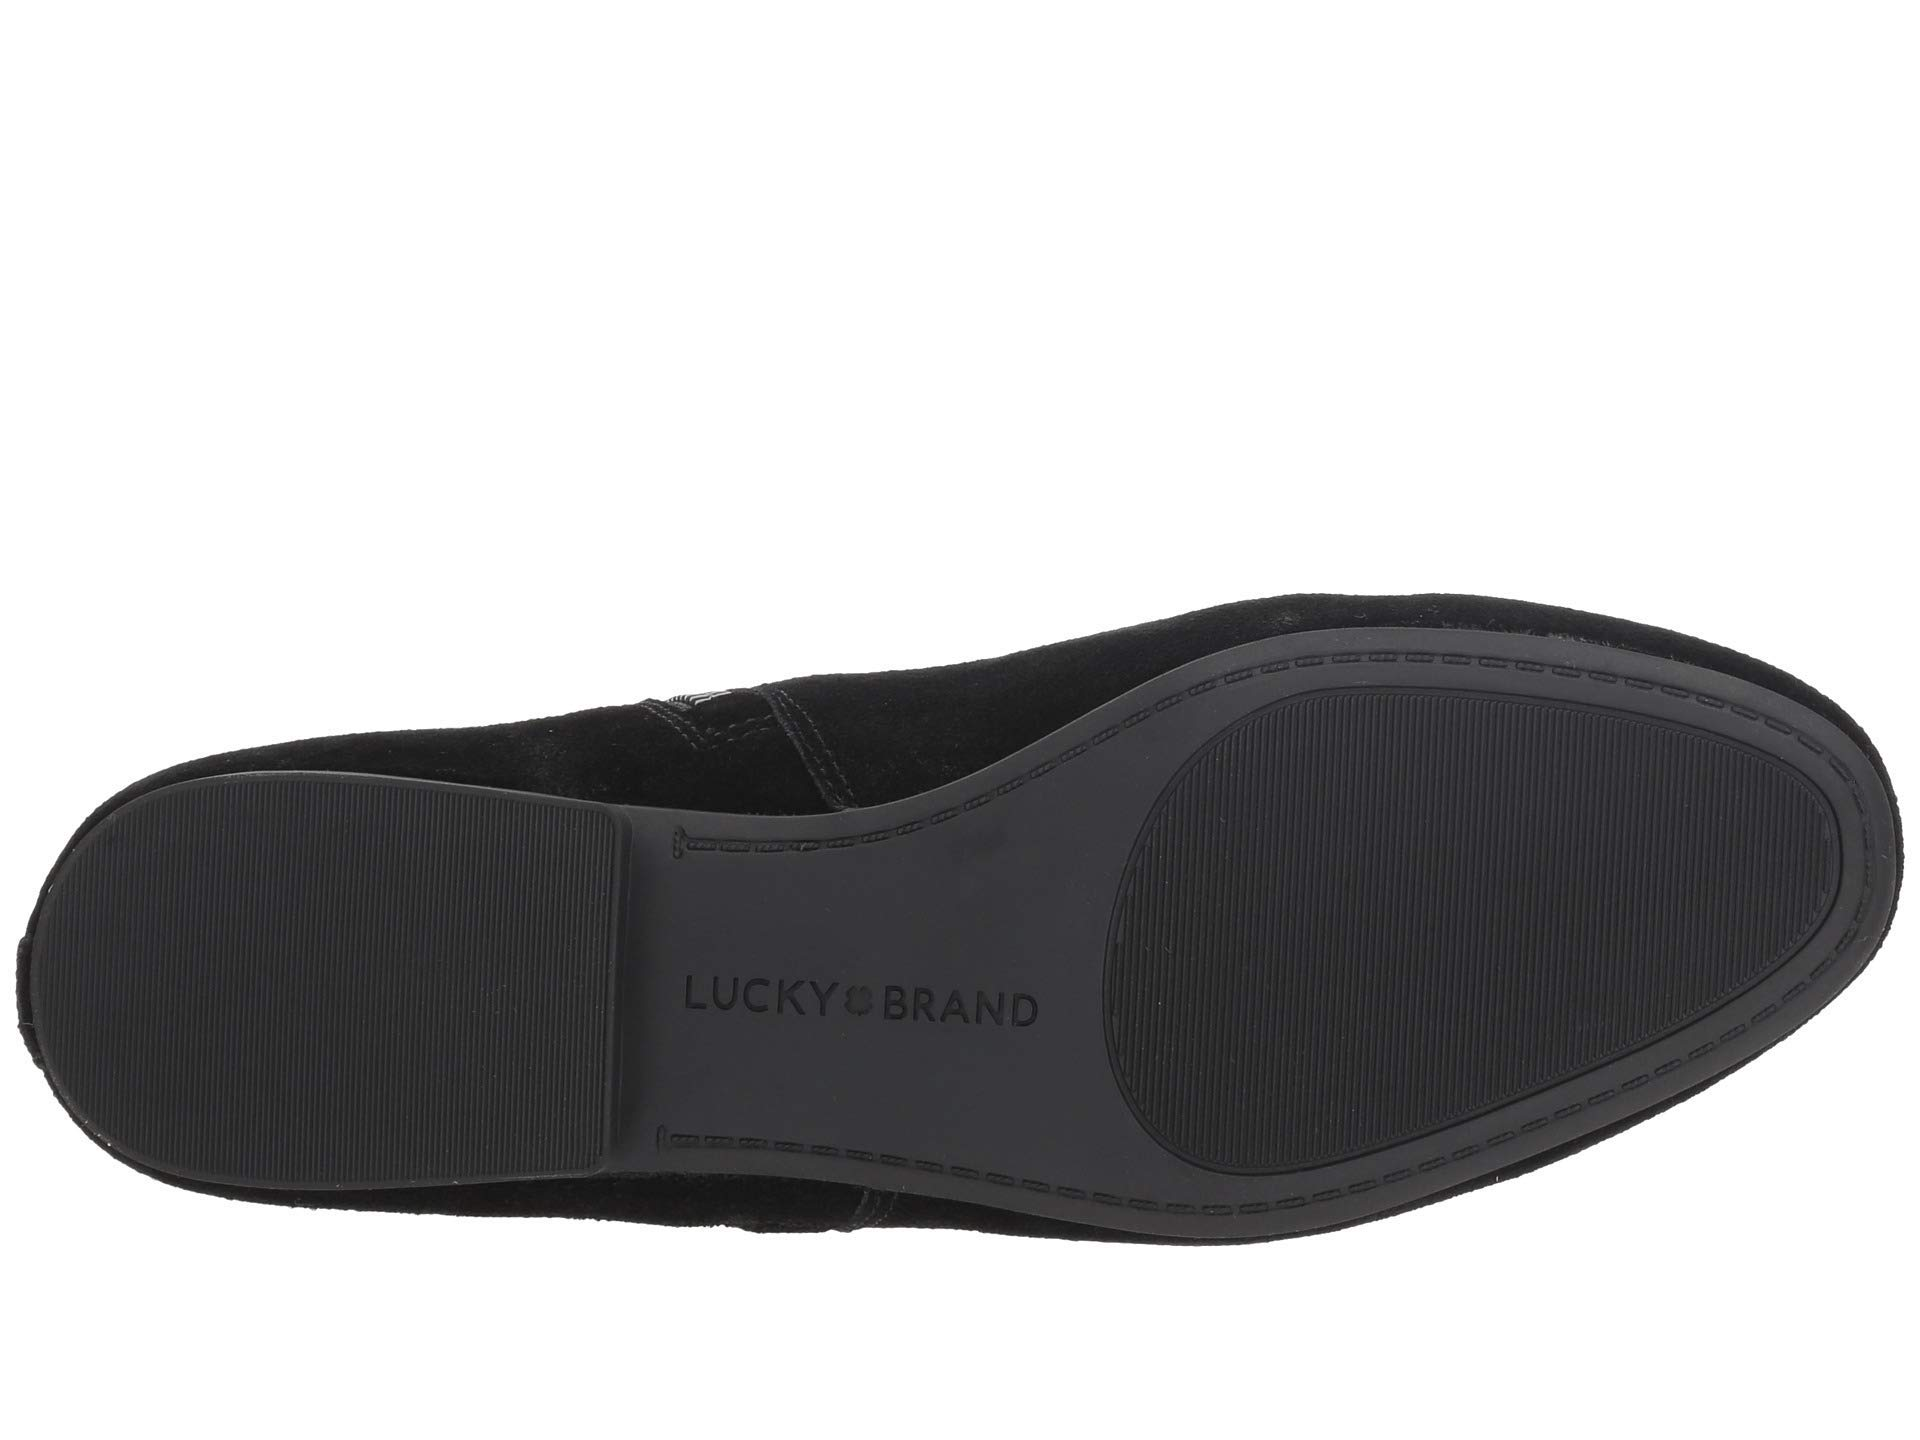line: (1274, 759, 1604, 1068), (85, 861, 357, 1110), (1616, 746, 1793, 936)
text: (661, 944, 1045, 1078)
